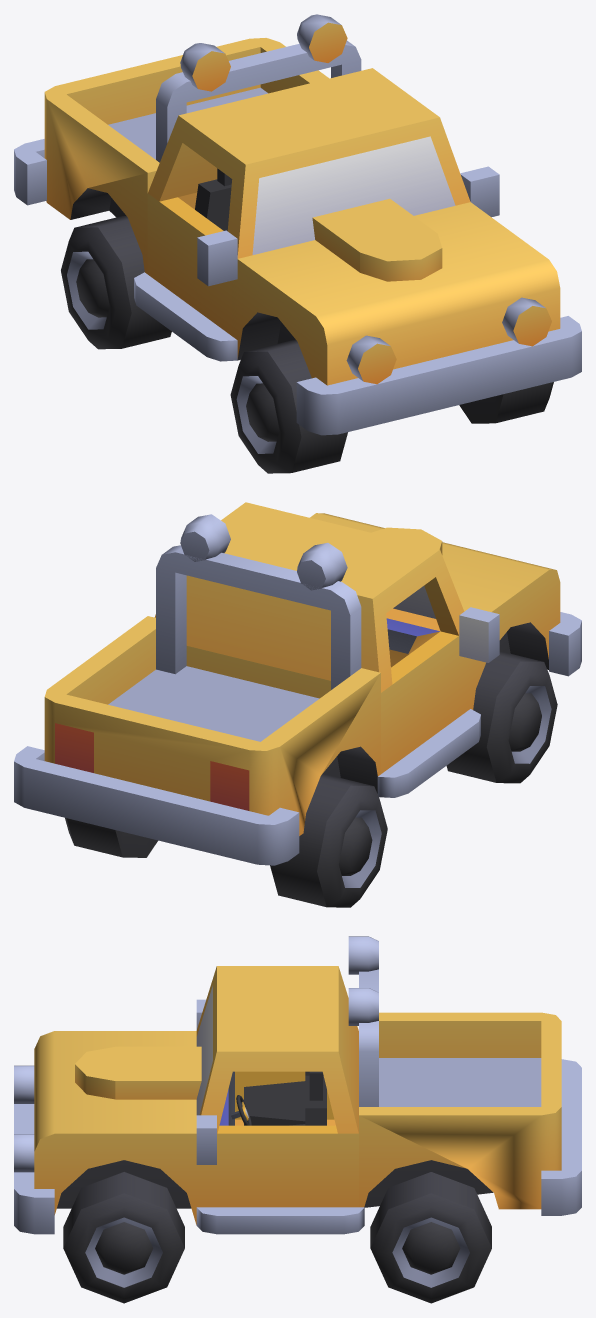
The model's file is vehicle-truck-yellow.glb.
3 views of the same model, one above another, from view 1: azimuth 30°, elevation 25°; view 2: azimuth 150°, elevation 25°; view 3: azimuth 270°, elevation 25° (orthographic). The views are drawn at different scales.
Parts seen in each view (by area): view 1: body, wheel-back-right, wheel-front-right, wheel-front-left; view 2: body, wheel-back-right, wheel-front-right, wheel-back-left; view 3: body, wheel-front-left, wheel-back-left.
Part boxes in pixels (x1,y1,x2,y2): body: (14, 14, 581, 435); wheel-back-right: (61, 216, 171, 349); wheel-front-right: (230, 340, 347, 473); wheel-front-left: (459, 382, 553, 423); body: (14, 502, 581, 865); wheel-back-right: (270, 774, 387, 907); wheel-front-right: (446, 651, 557, 783); wheel-back-left: (65, 818, 157, 857); body: (14, 936, 581, 1234); wheel-front-left: (63, 1172, 184, 1303); wheel-back-left: (370, 1172, 491, 1303).
Bounding box in the file's own units: 1.5 × 1.55 × 2.8.
1 material, 1 textured.
